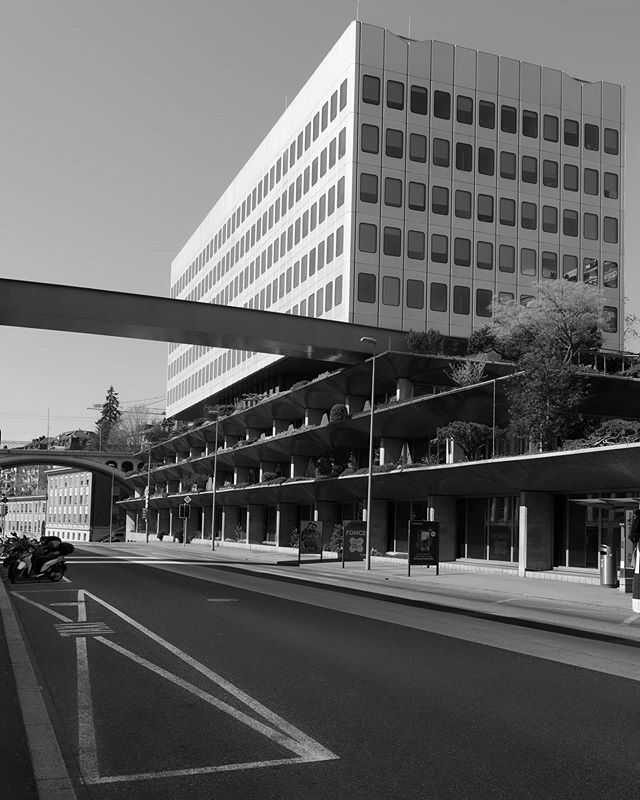building: (182, 28, 640, 546)
sky: (1, 7, 314, 387)
street: (3, 532, 625, 800)
